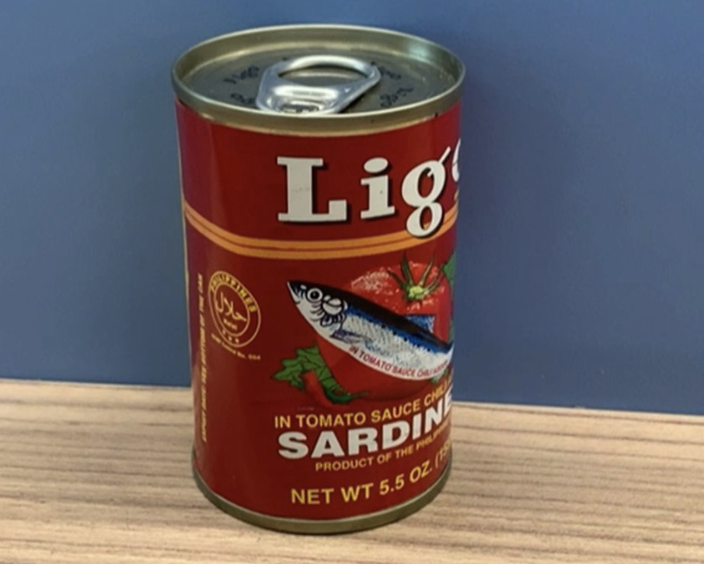sardines_100g-199g: (188, 61, 453, 495)
